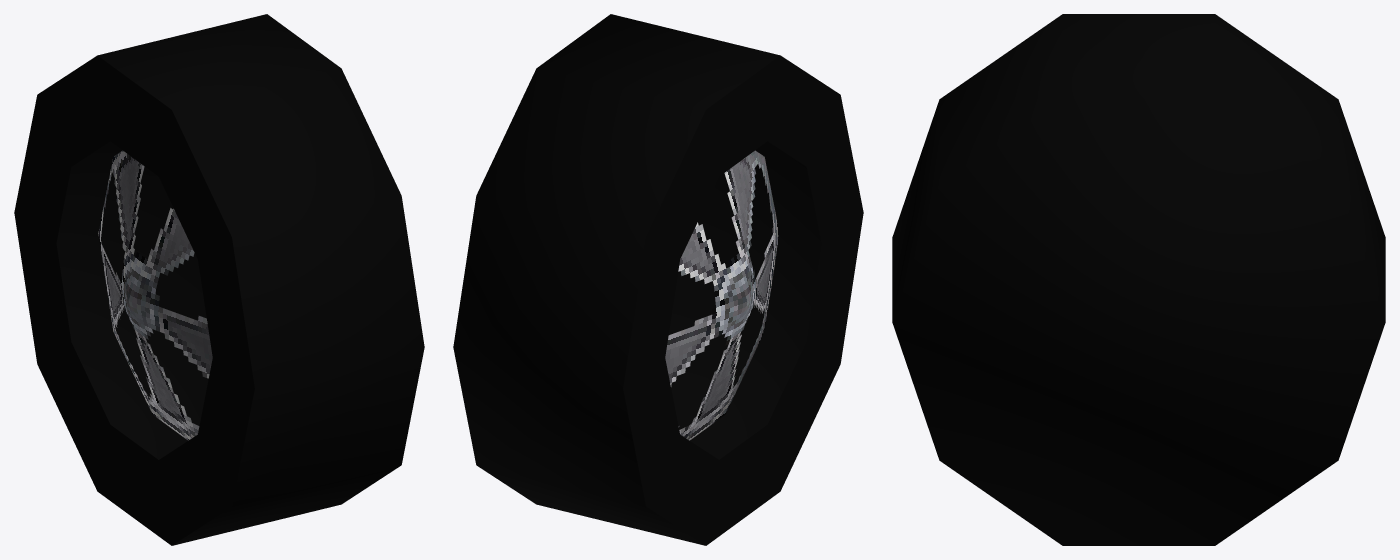
Rendered from gt350_wheel_rear_left.glb.
The picture shows the model from 3 angles, left to right: view 1: azimuth 30°, elevation 25°; view 2: azimuth 150°, elevation 25°; view 3: azimuth 270°, elevation 25°; orthographic projection. The views are drawn at different scales.
Parts seen in each view (by area): view 1: GT350_Wheel_rear_left; view 2: GT350_Wheel_rear_left; view 3: GT350_Wheel_rear_left.
Part boxes in pixels (<box>): GT350_Wheel_rear_left: <box>14,14,424,545</box>; GT350_Wheel_rear_left: <box>453,14,863,545</box>; GT350_Wheel_rear_left: <box>892,14,1385,545</box>.
Bounding box in the file's own units: 0.2569 × 0.6113 × 0.6113.
1 material, 1 textured.
